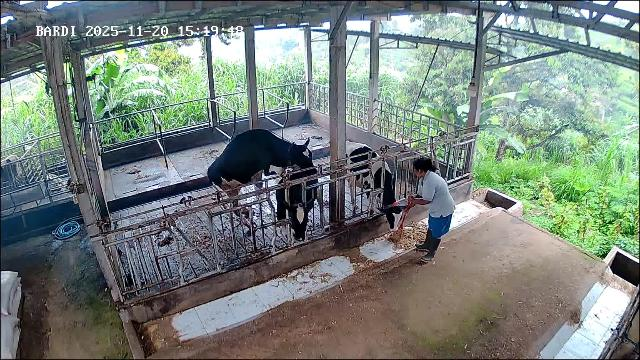mounting: (206, 129, 318, 230)
